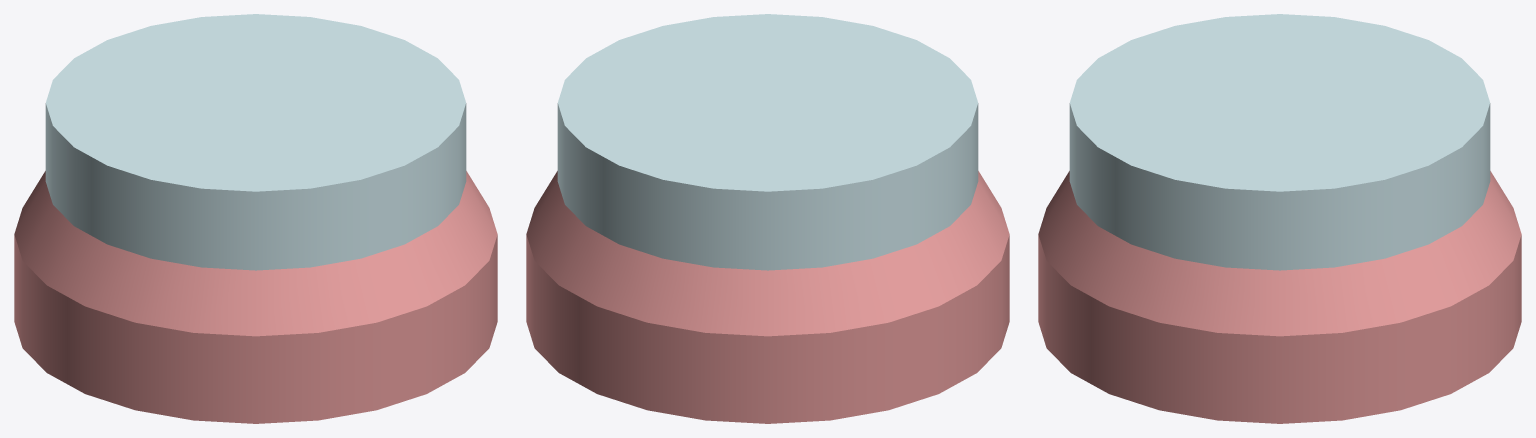
The model's file is towerRound_bottomA.glb.
3 renders of one model, left to right at view 1: azimuth 30°, elevation 25°; view 2: azimuth 150°, elevation 25°; view 3: azimuth 270°, elevation 25°, orthographic.
Visible parts, largest first — view 1: towerRound_bottomA; view 2: towerRound_bottomA; view 3: towerRound_bottomA.
Boxes of the visible parts, <box> form: towerRound_bottomA: <box>14,14,497,423</box>; towerRound_bottomA: <box>526,14,1009,423</box>; towerRound_bottomA: <box>1038,14,1521,423</box>.
Bounding box in the file's own units: 1 × 0.5 × 1.
